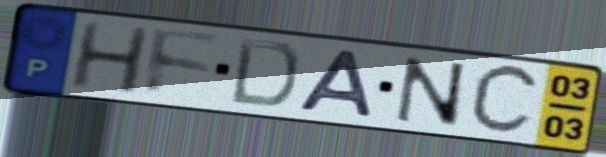A: (291, 47, 378, 121)
C: (465, 61, 545, 139)
D: (226, 35, 302, 111)
F: (144, 24, 225, 100)
H: (65, 20, 153, 98)
N: (393, 54, 468, 130)
